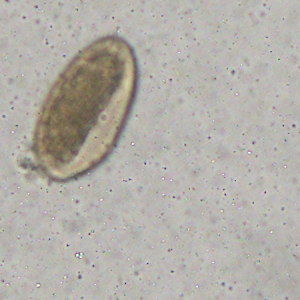Fasciola_hepatica_egg: (32, 33, 139, 182)
